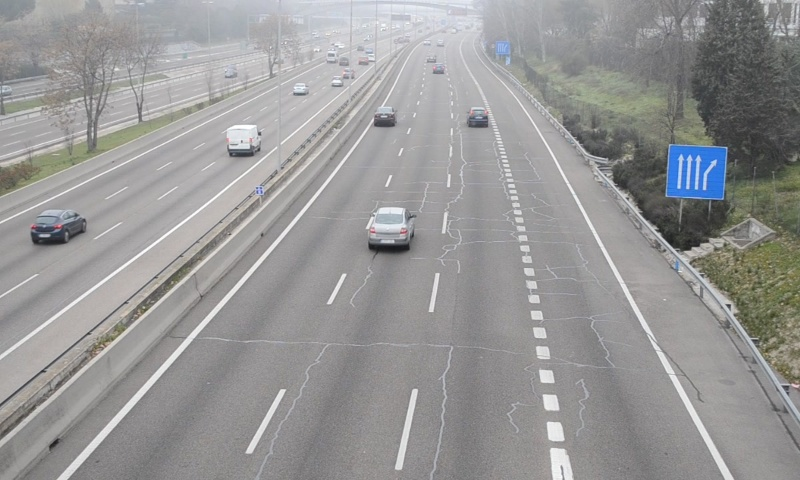car: (368, 206, 413, 248), (373, 106, 396, 127), (467, 107, 489, 128)
